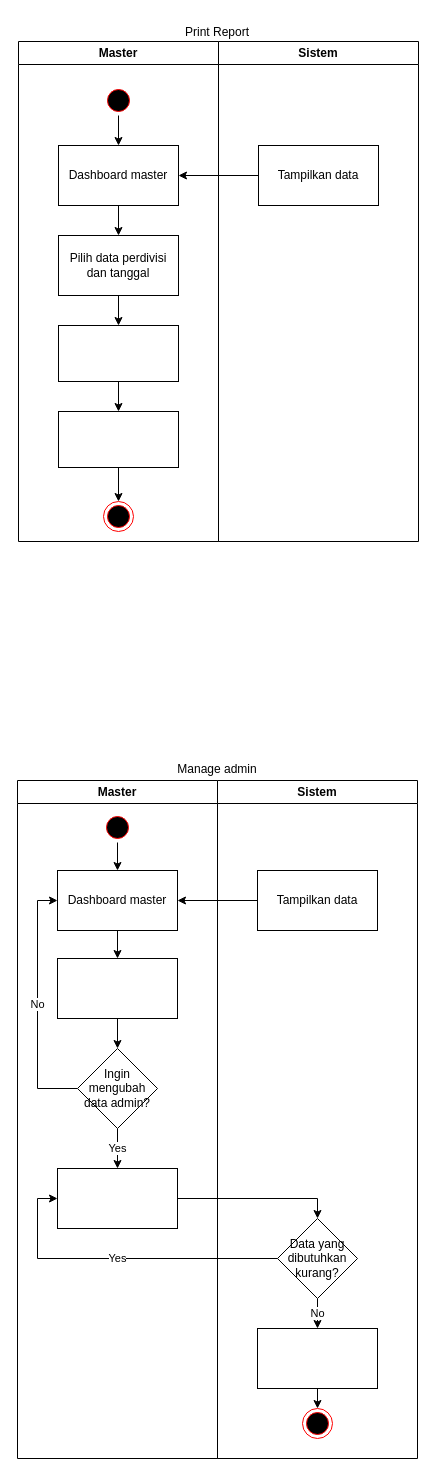
The diagram is 436 pixels wide and 1476 high, and some of its shapes have lost their labels. Each missing label, with the centre of its shape:
Input data: point (117, 1198)
Pilih aktivitas manajemen: point (117, 988)
Rekap data: point (118, 353)
Save data: point (317, 1358)
Tombol cetak: point (118, 439)
